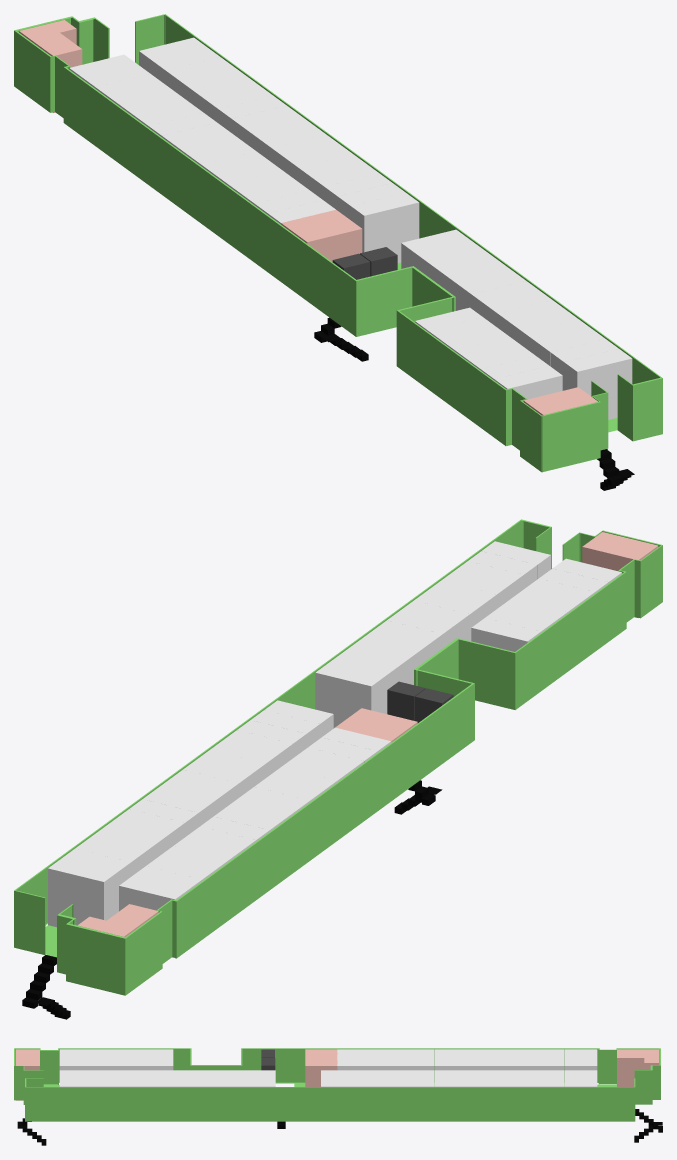
3 views of the same model, one above another, from view 1: azimuth 30°, elevation 25°; view 2: azimuth 150°, elevation 25°; view 3: azimuth 270°, elevation 25° (orthographic). The views are drawn at different scales.
Visible parts, largest first — view 1: object, 研究室受付, 研究室10640, 研究室10648, 男子トイレ_6_2, 男子トイレ_6_1, 研究室10601, エレベーター_6_1, 女子トイレ_6_1, 研究室10647, 研究室10630, 研究室10638 (+45 smaller); view 2: object, 研究室受付, 研究室10624, 女子トイレ_6_1, エレベーター_6_1, 研究室10623, 研究室10607, 男子トイレ_6_1, 階段_6_1, 研究室10642, 研究室10625, 研究室10643 (+44 smaller); view 3: object, 研究室受付, 男子トイレ_6_1, 男子トイレ_6_2, 女子トイレ_6_1, 階段_6_1, 研究室10604, 研究室10616, 研究室10620, 研究室10612, 女子トイレ_6_2, 研究室10607 (+45 smaller).
Part boxes in pixels (x1,y1,x2,y2): object: [14, 14, 662, 472]; 研究室受付: [401, 229, 525, 310]; 研究室10640: [351, 193, 419, 262]; 研究室10648: [564, 349, 632, 419]; 男子トイレ_6_2: [294, 219, 362, 261]; 男子トイレ_6_1: [19, 20, 82, 112]; 研究室10601: [494, 366, 562, 399]; エレベーター_6_1: [332, 247, 397, 279]; 女子トイレ_6_1: [523, 387, 597, 415]; 研究室10647: [551, 339, 618, 390]; 研究室10630: [218, 95, 286, 132]; 研究室10638: [324, 173, 391, 210]; object: [14, 519, 662, 995]; 研究室受付: [315, 620, 442, 728]; 研究室10624: [48, 858, 117, 927]; 女子トイレ_6_1: [582, 532, 658, 617]; エレベーター_6_1: [387, 681, 453, 722]; 研究室10623: [119, 876, 188, 911]; 研究室10607: [471, 618, 540, 651]; 男子トイレ_6_1: [77, 904, 158, 936]; 階段_6_1: [22, 955, 70, 1019]; 研究室10642: [400, 600, 469, 640]; 研究室10625: [62, 848, 130, 911]; 研究室10643: [414, 591, 483, 641]; object: [14, 1048, 660, 1121]; 研究室受付: [189, 1070, 275, 1086]; 男子トイレ_6_1: [617, 1049, 658, 1086]; 男子トイレ_6_2: [305, 1049, 321, 1086]; 女子トイレ_6_1: [15, 1049, 39, 1100]; 階段_6_1: [634, 1109, 662, 1142]; 研究室10604: [108, 1049, 124, 1070]; 研究室10616: [467, 1049, 483, 1070]; 研究室10620: [532, 1049, 548, 1070]; 研究室10612: [402, 1049, 418, 1070]; 女子トイレ_6_2: [321, 1049, 337, 1070]; 研究室10607: [157, 1049, 173, 1070].
Size of the model in its own units: 0.4316 by 0.3524 by 3.03.
